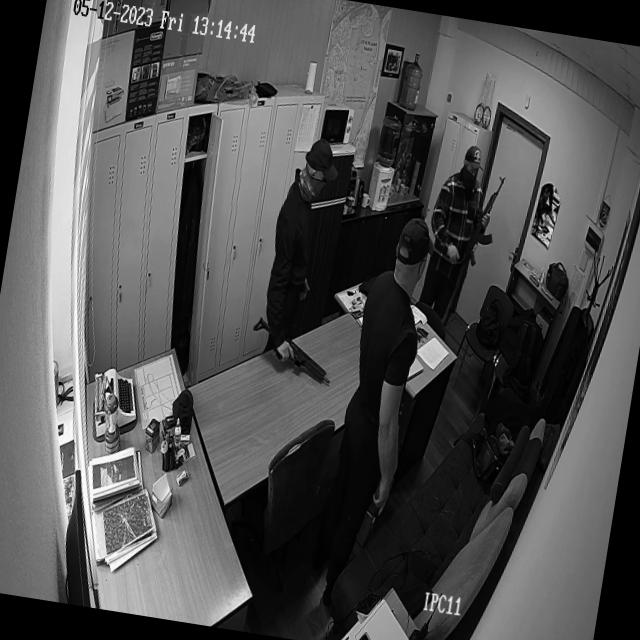gun: (246, 312, 340, 390), (462, 171, 506, 270)
person: (334, 219, 436, 552)
person with a gun: (249, 100, 370, 428)
